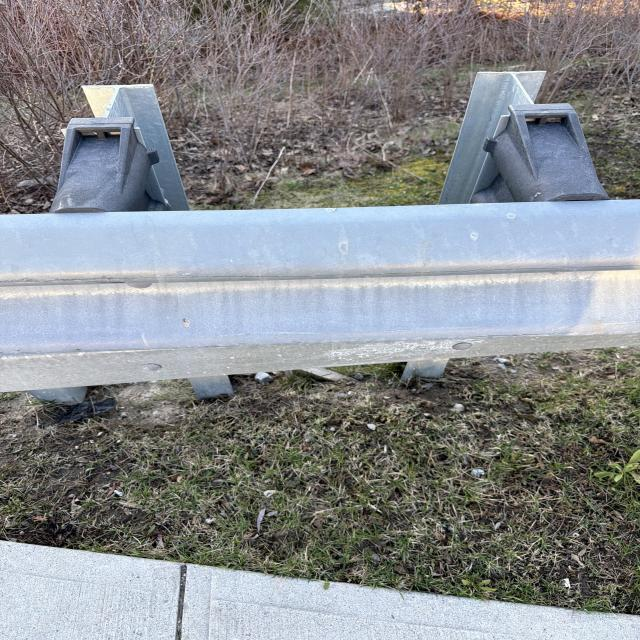Guard rail: (16, 91, 621, 369)
